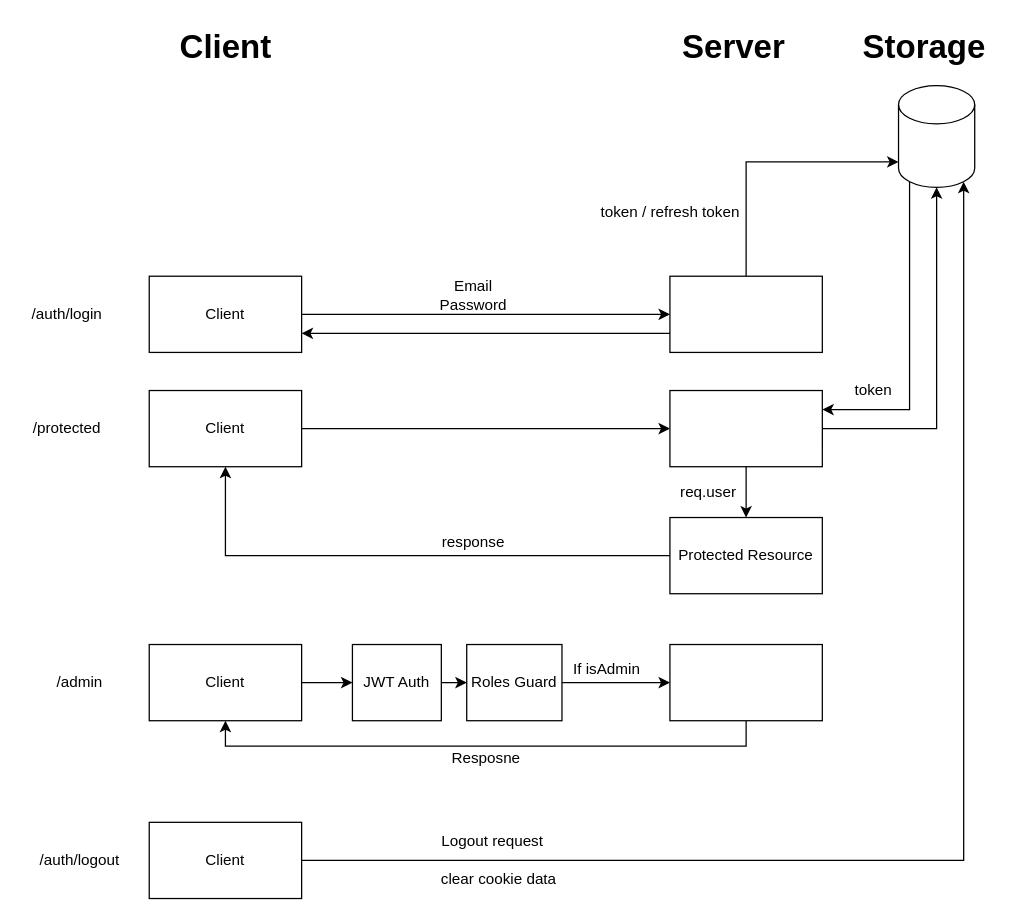
This 1015x921 diagram has some shape labels left out. The shapes that lost their labels are listed below. From the top down, each one's centre as x and y in pixels, then its label:
the point at 936,135: Cookie
the point at 745,313: login
the point at 745,428: JWT Strategy
the point at 745,682: Admin Resource
